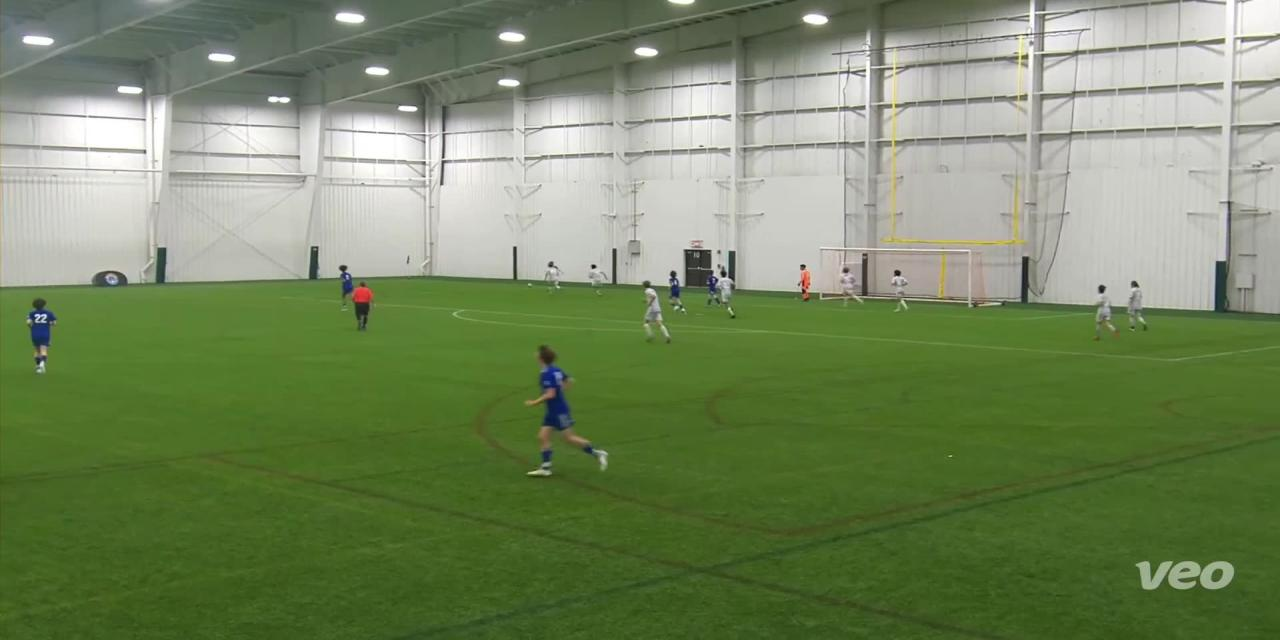goal: (814, 243, 1011, 310)
sports ball: (521, 280, 537, 292)
